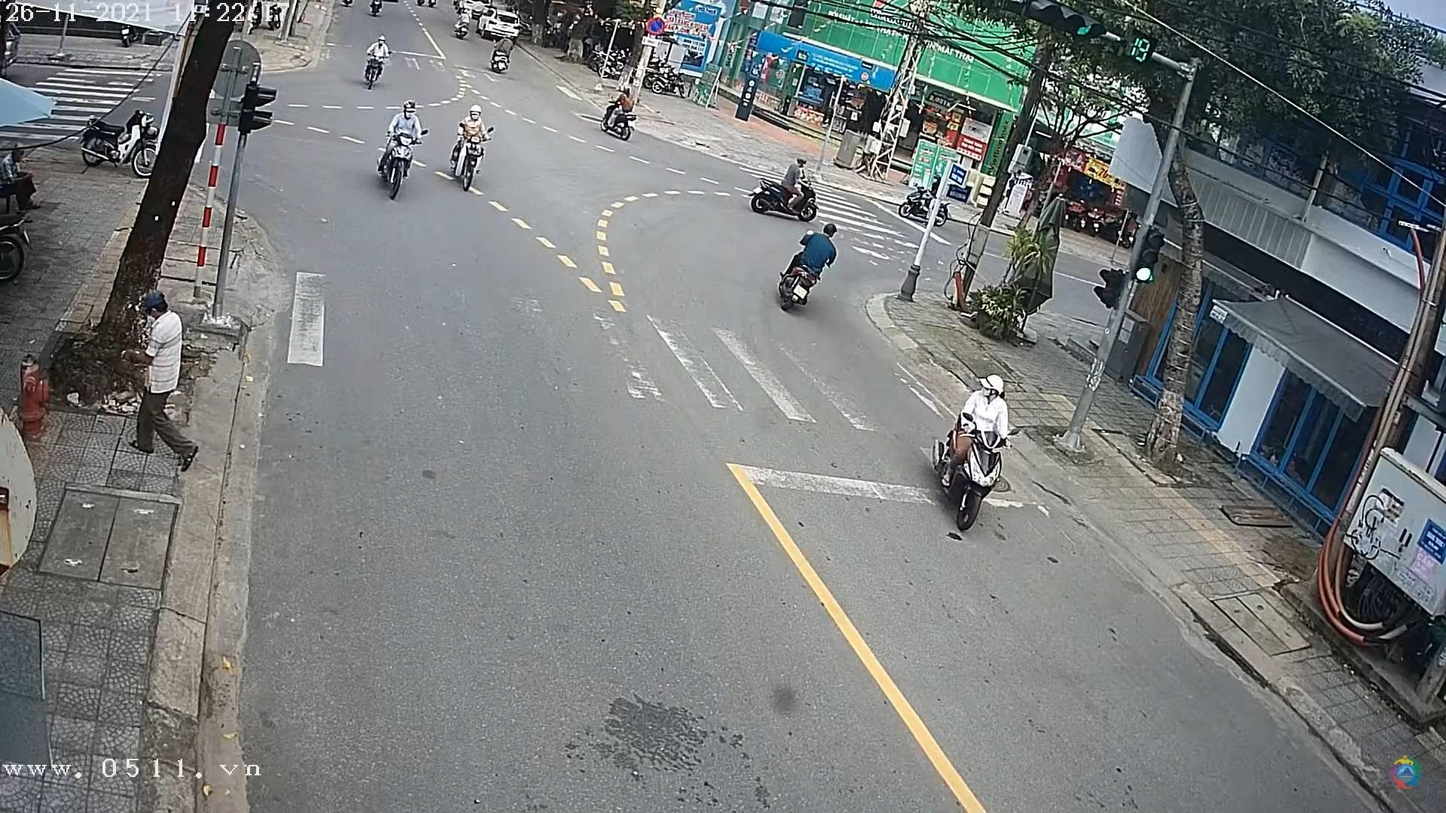motorbike: (946, 415, 1010, 535), (453, 128, 495, 194), (381, 134, 420, 196), (360, 51, 386, 95)
